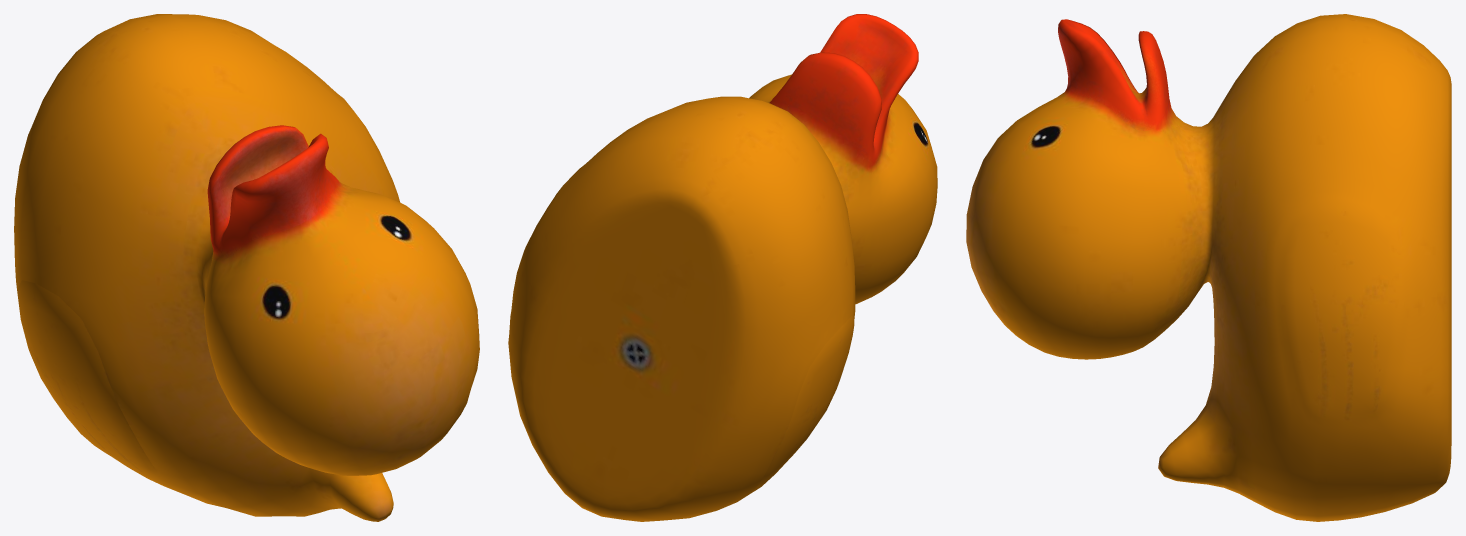
The model's file is rubber_duck_toy.glb.
3 views of the same model, side by side, from view 1: azimuth 30°, elevation 25°; view 2: azimuth 150°, elevation 25°; view 3: azimuth 270°, elevation 25° (orthographic). The views are drawn at different scales.
Parts seen in each view (by area): view 1: rubber_duck_toy; view 2: rubber_duck_toy; view 3: rubber_duck_toy.
Boxes of the visible parts, x1=… form: rubber_duck_toy: x1=14, y1=14, x2=479, y2=521; rubber_duck_toy: x1=508, y1=14, x2=937, y2=521; rubber_duck_toy: x1=966, y1=14, x2=1451, y2=521.
Bounding box in the file's own units: 0.2215 × 0.2876 × 0.2855.
1 material, 1 textured.
